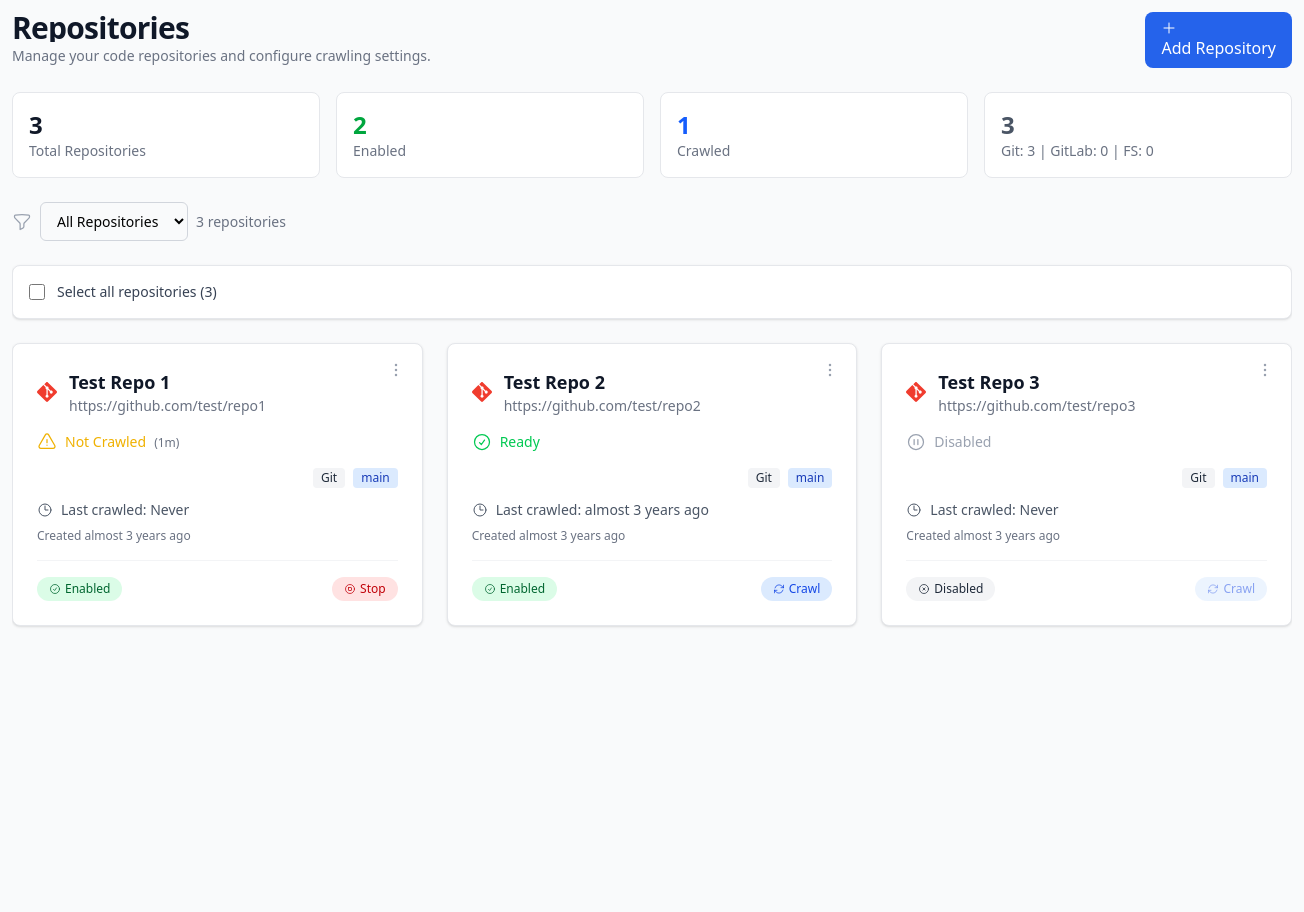
Test case: RepositoriesPage - Crawl Prevention › Bulk Operations Crawl Prevention › should show smart bulk crawl with partial selection
This screenshot has width=1304, height=912.
Click the heading "Test Repo 1" at [120, 382], box [69,370,170,394]
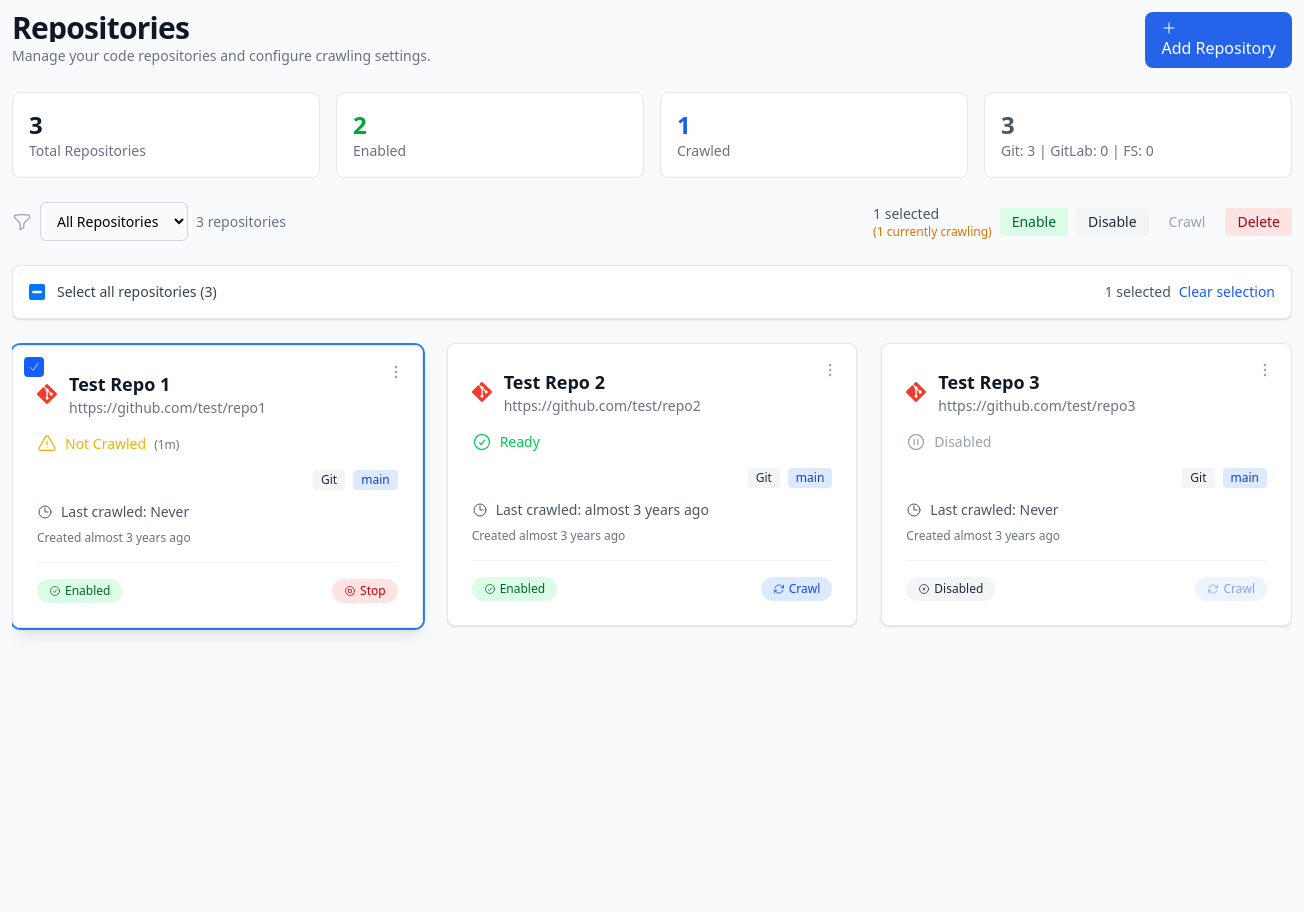
Click the heading "Test Repo 2" at [554, 382], box [504,370,605,394]
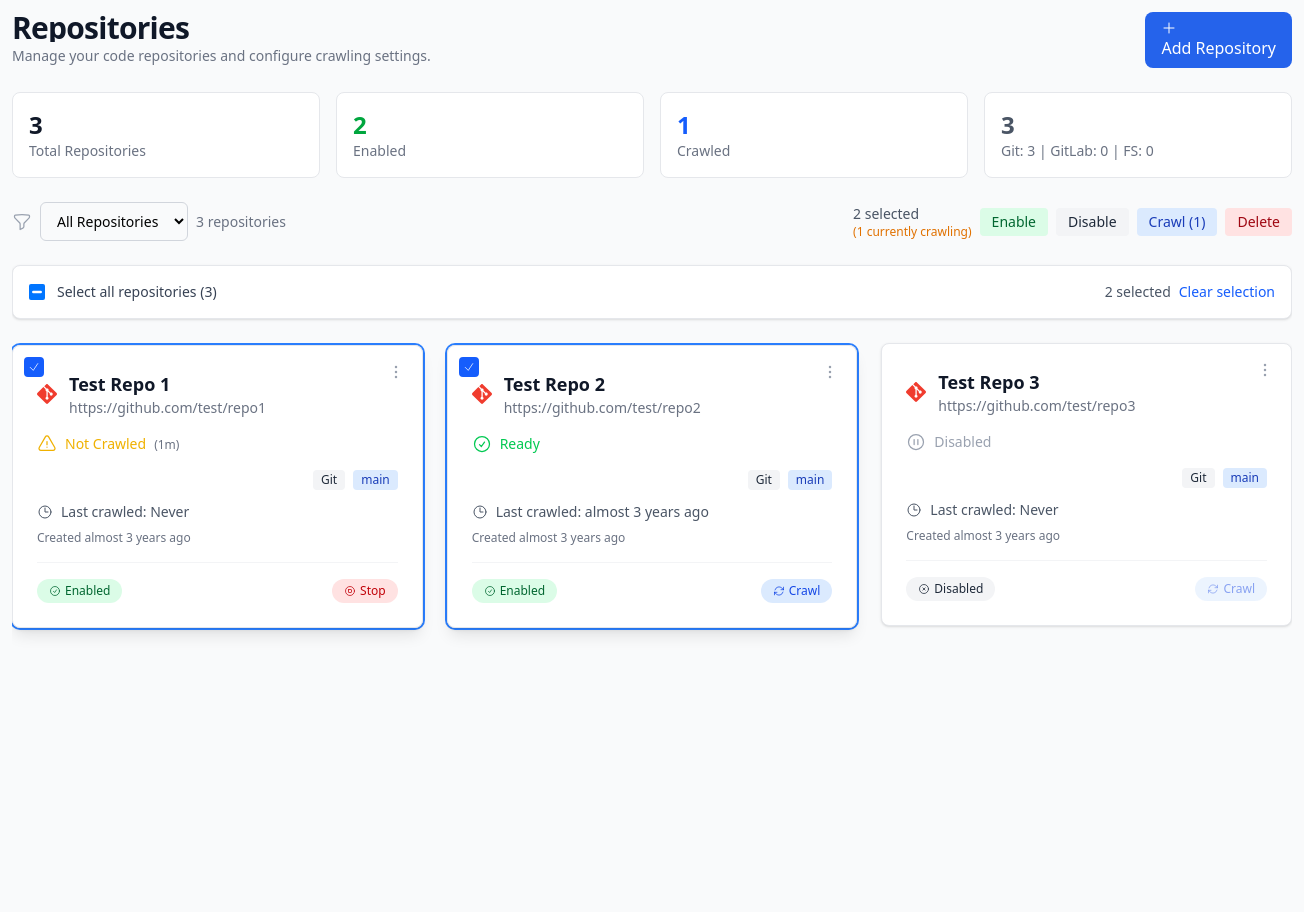
Expected: the 1st text "2 selected" is shown, [853,204,919,222]
Expected: the button with test id "bulk-crawl-button" is enabled, [1136,208,1217,236]
Expected: the button with test id "bulk-crawl-button" shows "(1)", [1136,208,1217,236]
